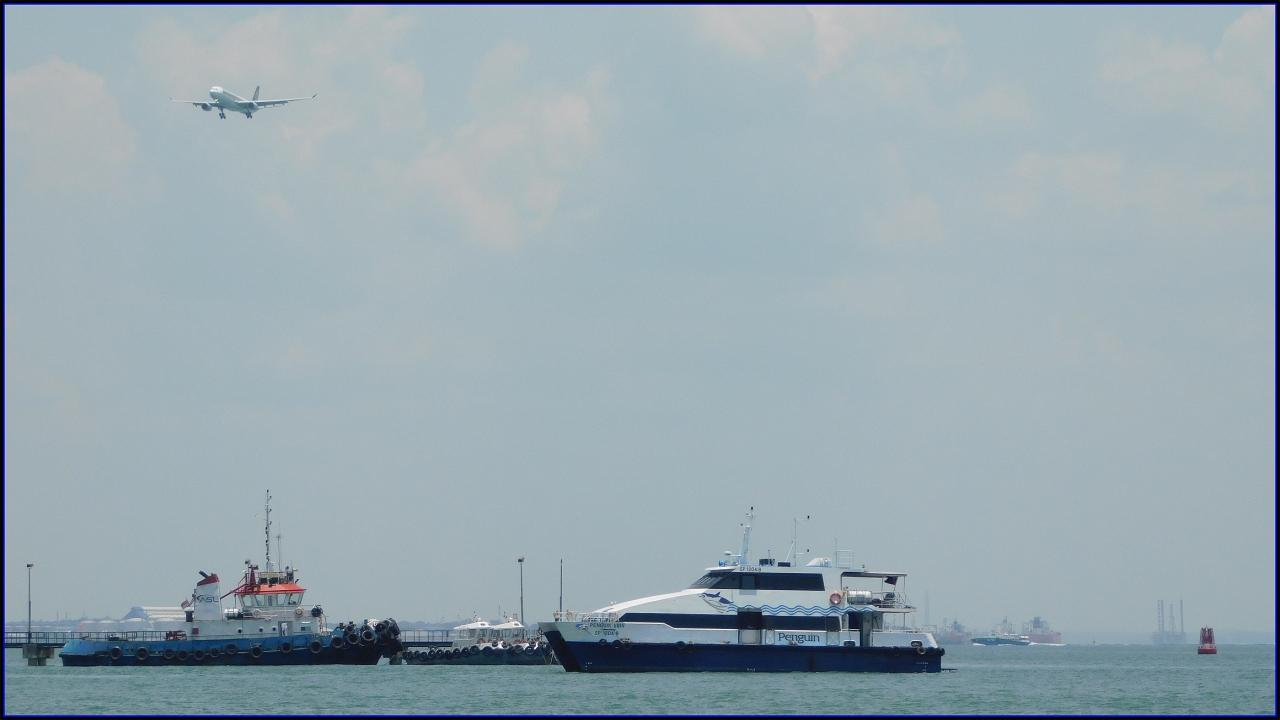Airplane: (164, 64, 330, 132)
